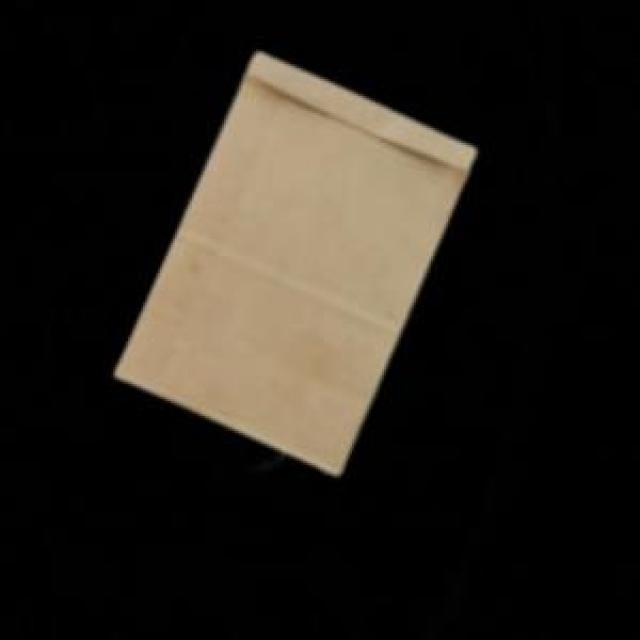paper: (111, 49, 472, 469)
